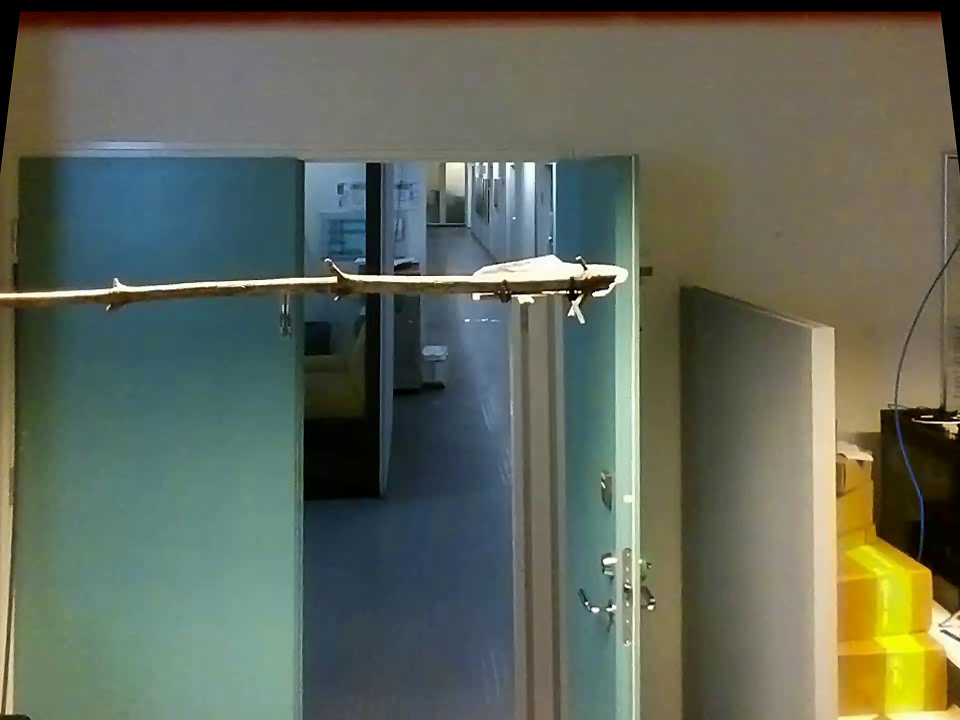aluminum_frame: (502, 299, 576, 717)
branch: (5, 243, 463, 331)
